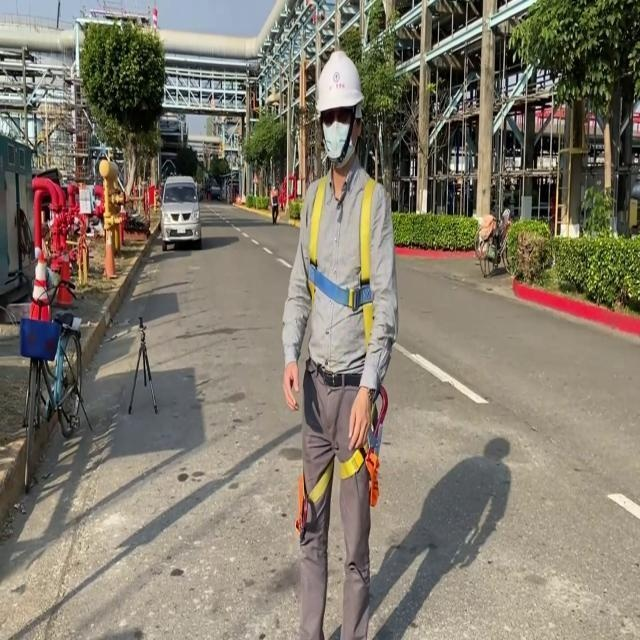Arnes_seguridad: (300, 173, 387, 489)
